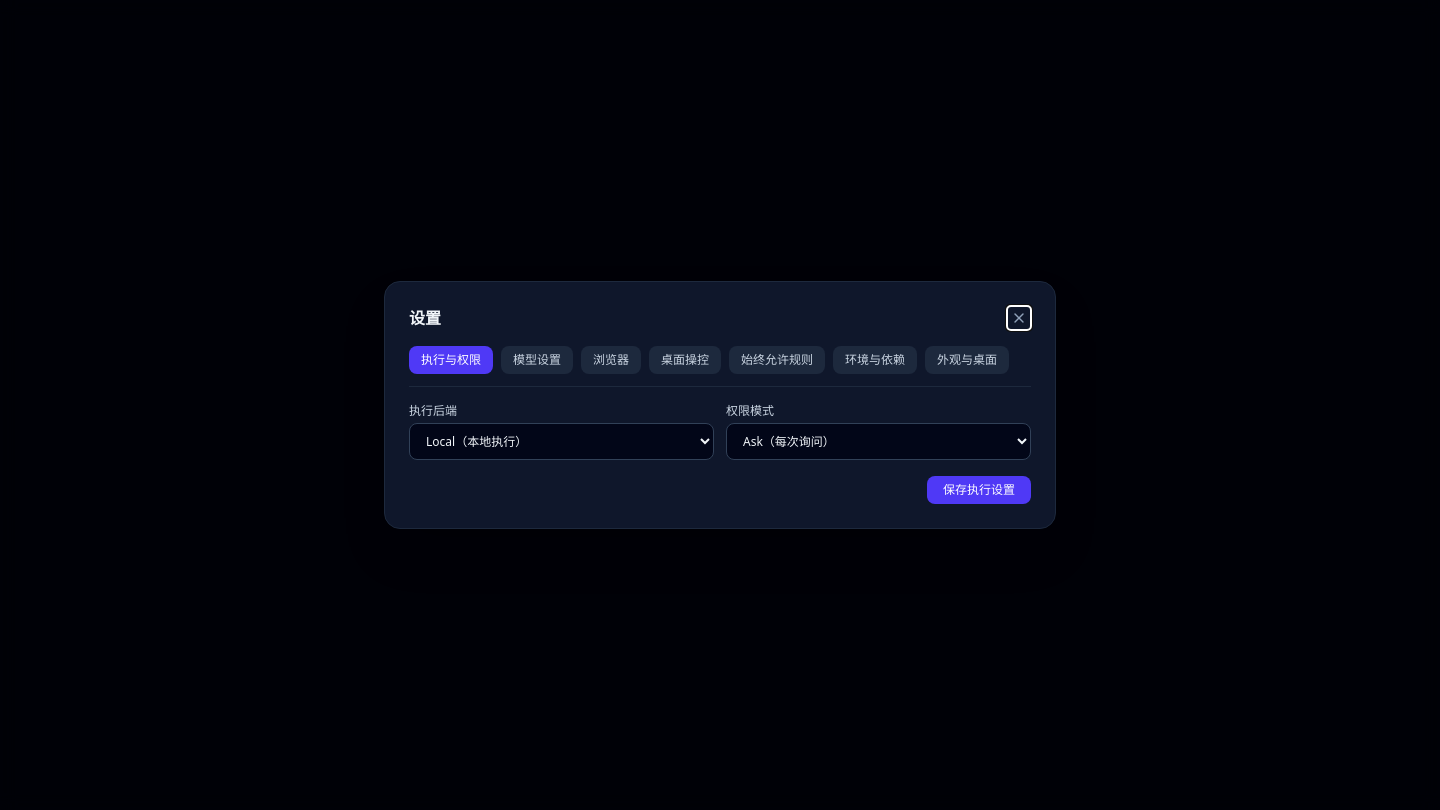
it: Security boundary & MVP interactive cards › requires secondary confirmation when relaxing permission mode or downgrading Docker->Local in SettingsModal
Later steps or results of the test are not shown.
Step 1. Select "FullAuto（全部自动放行）" in the dropdown labelled "权限模式" → (878, 442), box top-left (726, 423), bottom-right (1031, 460)
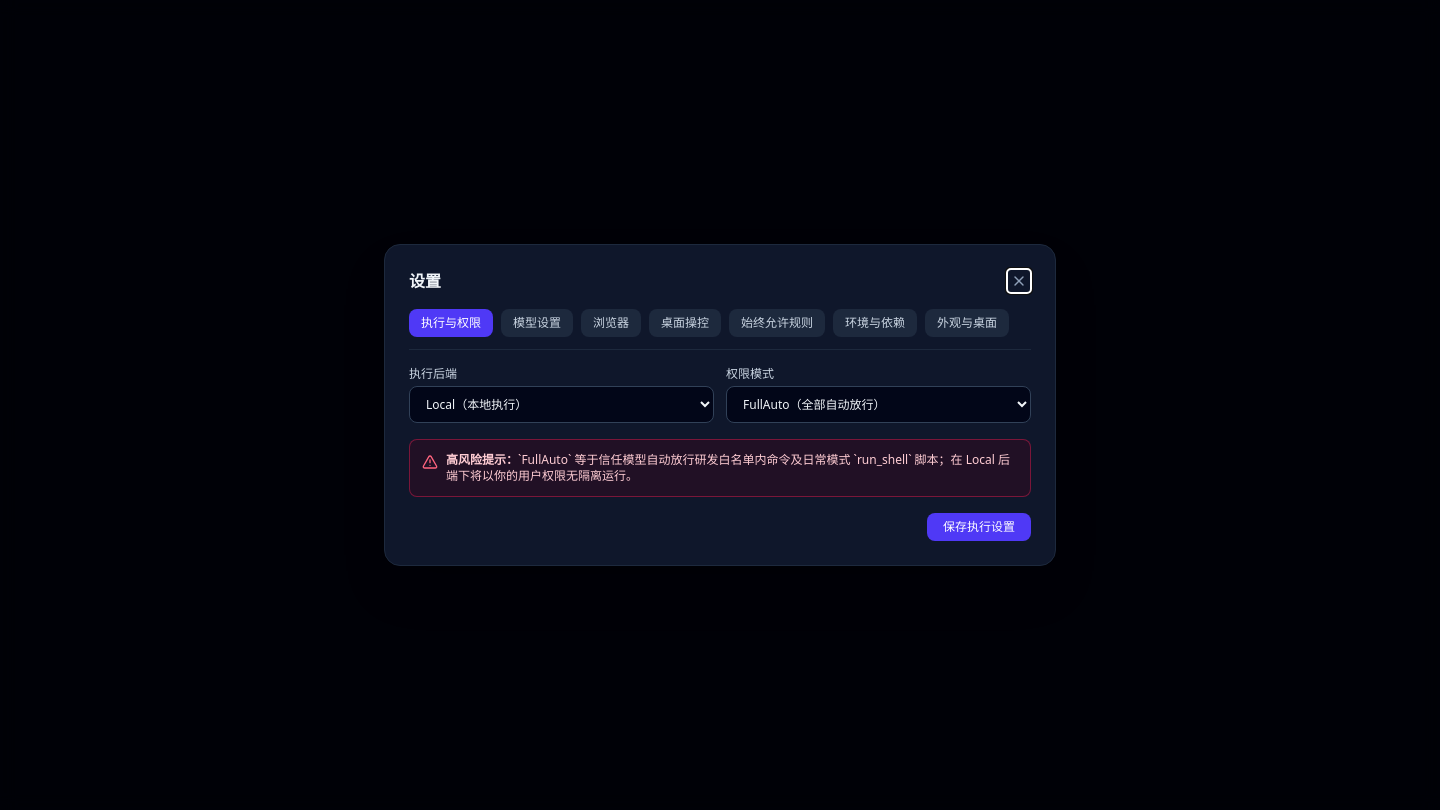
Step 2. Click the button "保存执行设置" → (979, 527), box top-left (927, 513), bottom-right (1031, 541)
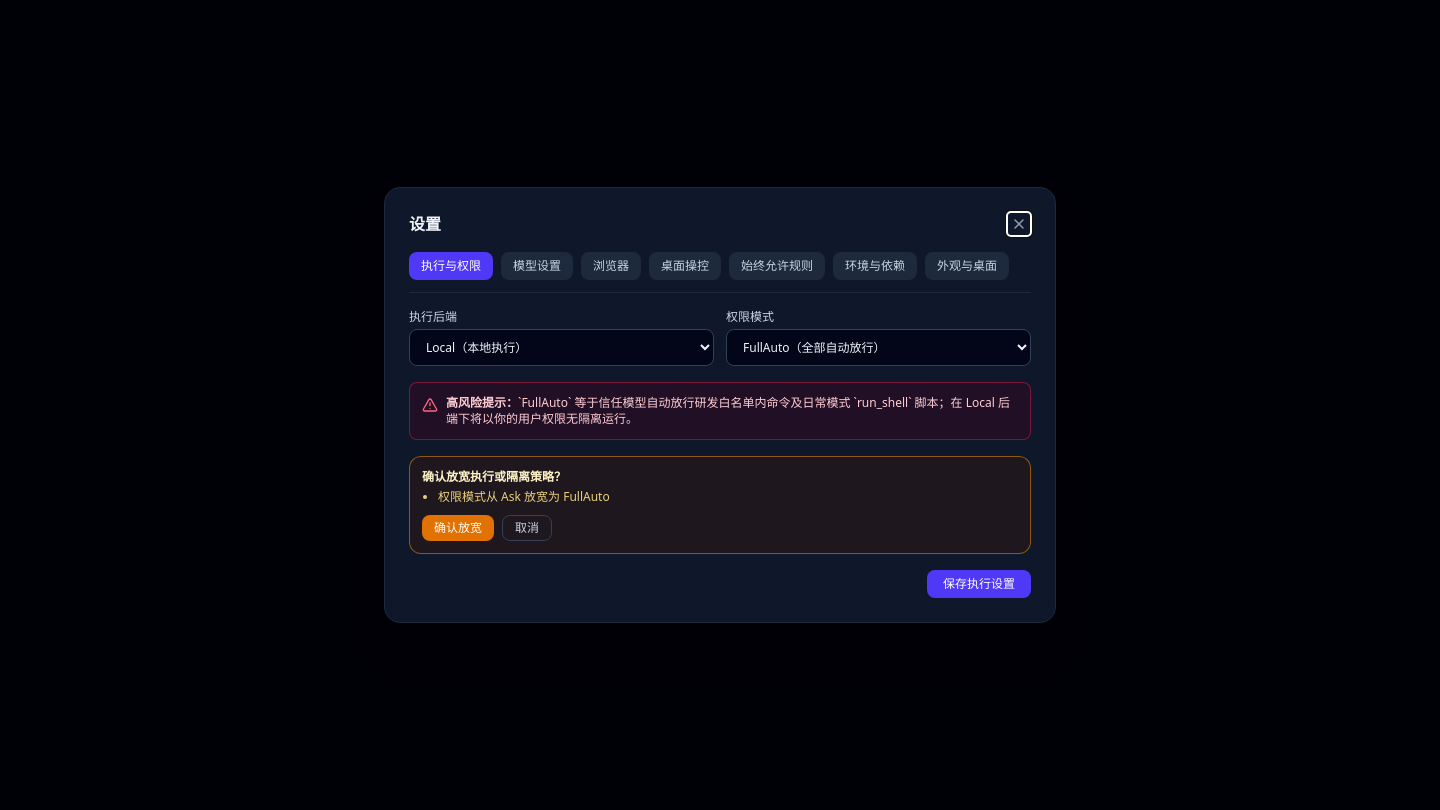
expect the element with test id "relax-permission-confirm" is shown: met, box top-left (409, 456), bottom-right (1031, 554)
